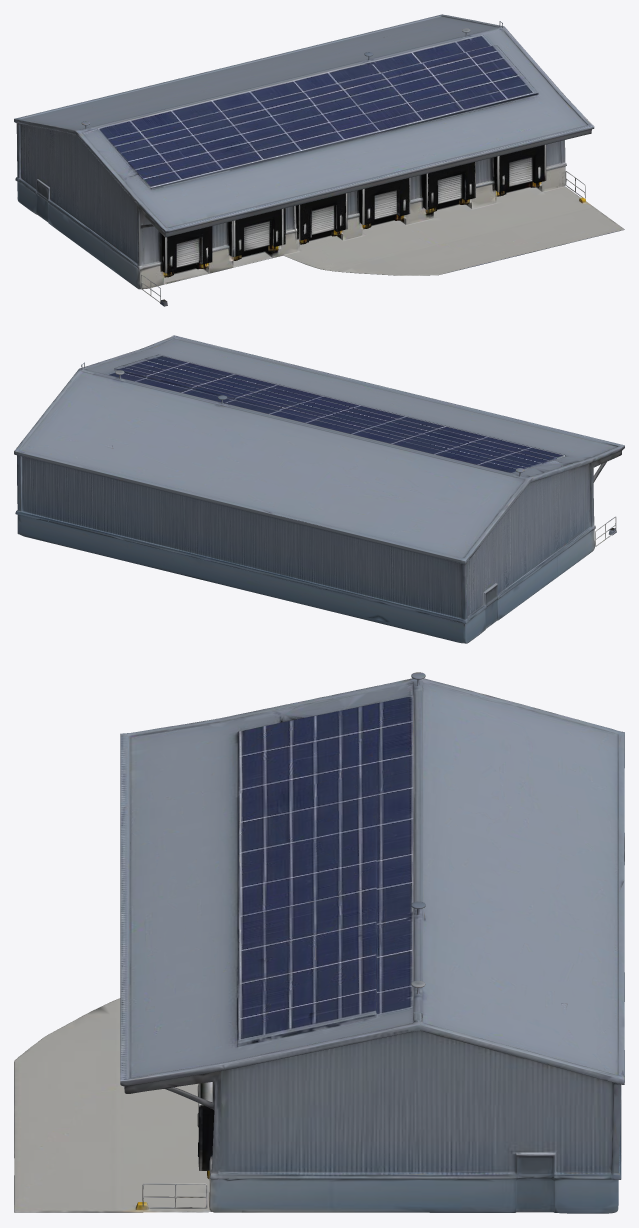
The model's file is ai-warehouse.glb.
The picture shows the model from 3 angles, top to bottom: view 1: azimuth 30°, elevation 25°; view 2: azimuth 150°, elevation 25°; view 3: azimuth 270°, elevation 25°; orthographic projection. The views are drawn at different scales.
Visible parts, largest first — view 1: node_0; view 2: node_0; view 3: node_0.
Boxes of the visible parts, x1,y1,x2,y2 form: node_0: [14, 14, 624, 306]; node_0: [14, 335, 624, 643]; node_0: [14, 672, 624, 1213].
Bounding box in the file's own units: 110 × 29.54 × 81.64.
Materials: 1 (1 with a texture image).
